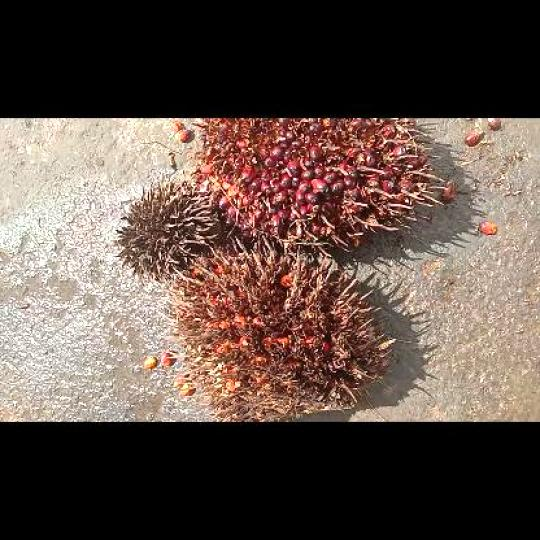masak: (190, 118, 443, 256)
terlalu masak: (165, 236, 396, 421)
